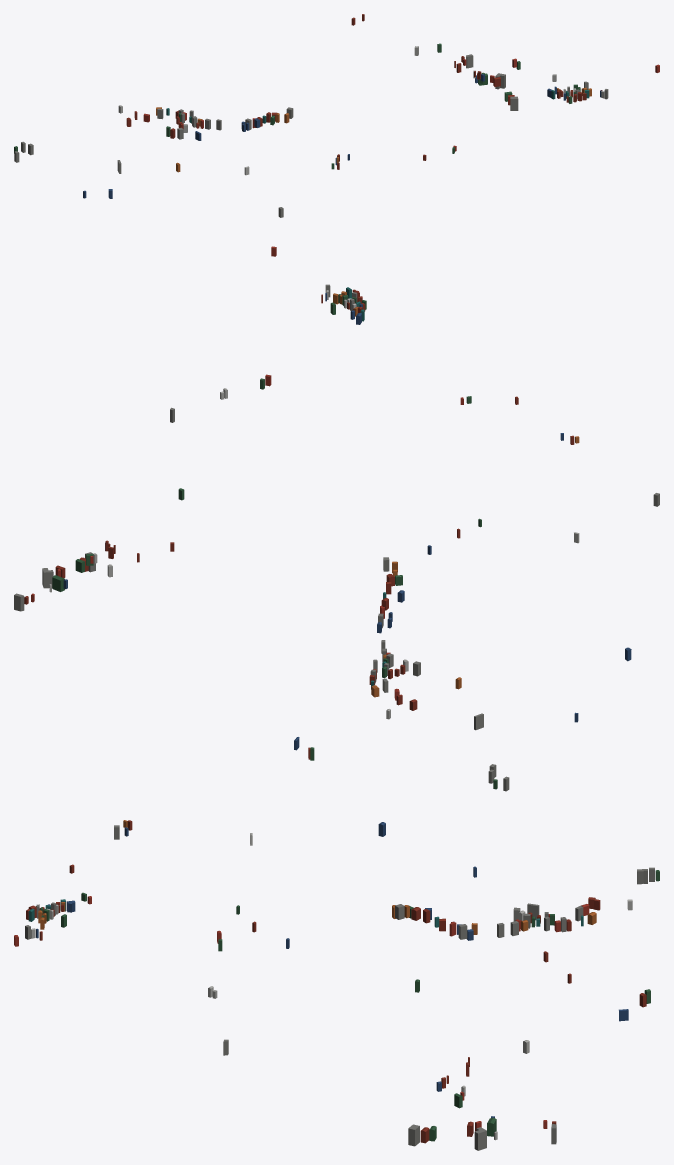
File: near-15-27355-14872.6a23c426.glb
3 views of the same model, one above another, from view 1: azimuth 30°, elevation 25°; view 2: azimuth 150°, elevation 25°; view 3: azimuth 270°, elevation 25° (orthographic). The views are drawn at different scales.
Bounding box in the file's own units: 1172 × 461 × 1101.
